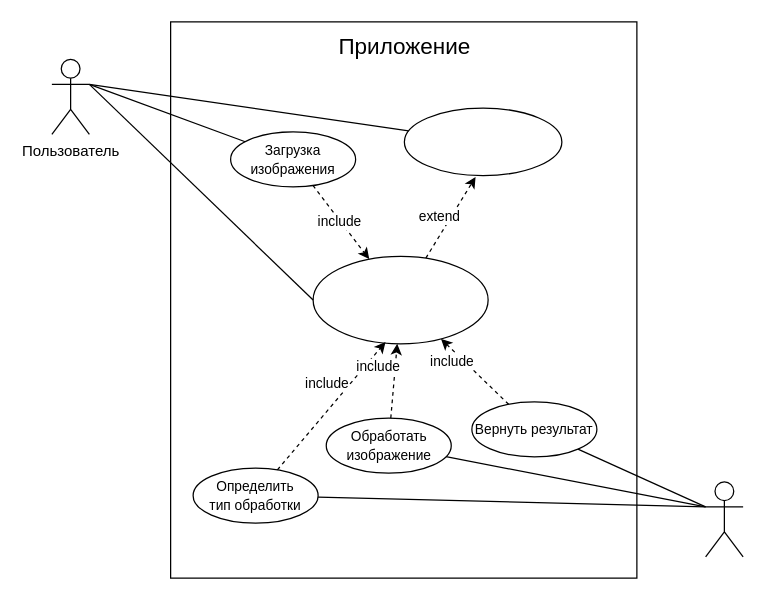
Image size: 771x605. Some labels were removed from this diagram. Each missing label, with the centre of its shape:
"Обработка изображения" goes at pixel 400 299.
"Сервер" goes at pixel 723 519.
"Скачать обработанное изображение" goes at pixel 482 141.
